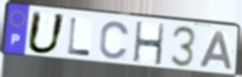3: (169, 24, 197, 69)
A: (198, 30, 234, 71)
C: (98, 19, 131, 61)
H: (132, 20, 166, 67)
L: (66, 16, 92, 58)
U: (25, 10, 68, 56)
